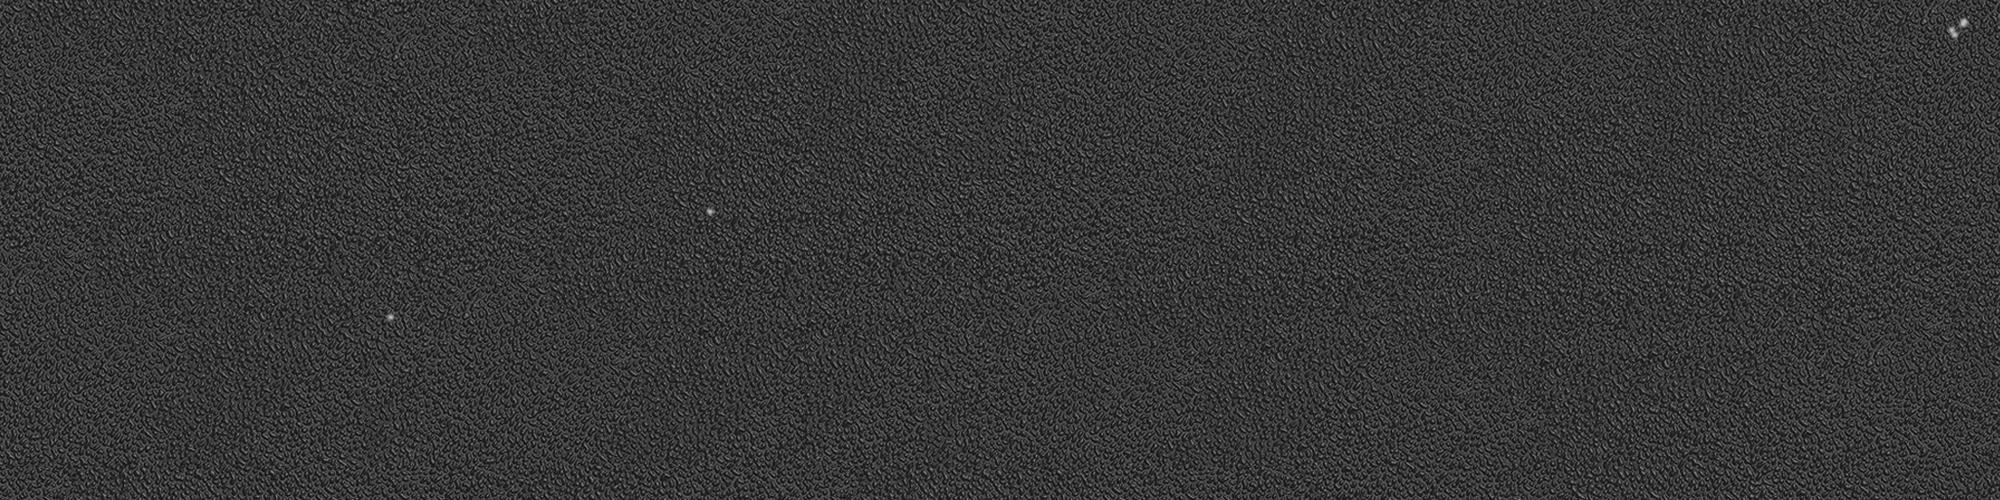Particles: (702, 204, 718, 219), (383, 312, 397, 327), (1957, 18, 1969, 29), (1945, 26, 1959, 33), (1952, 33, 1960, 40)
